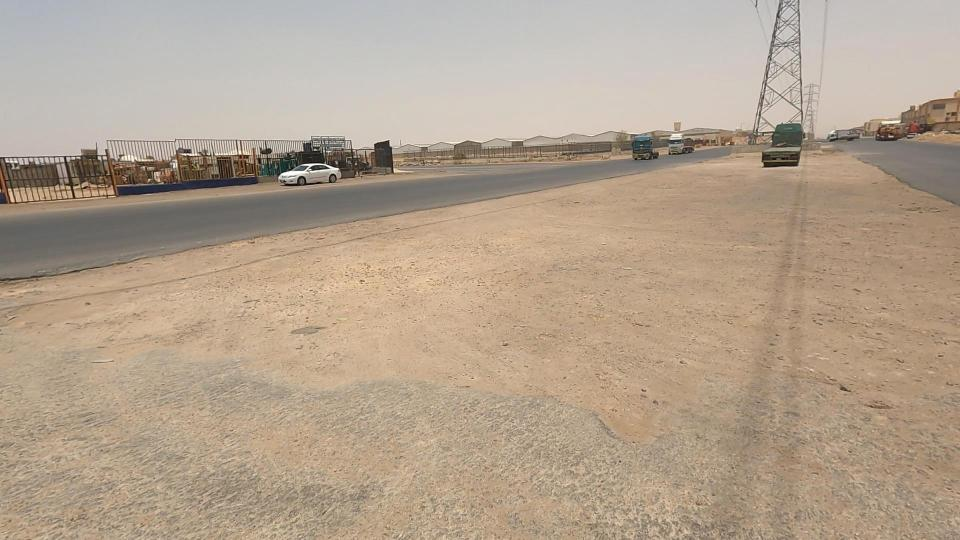CONSTRUCTION_ROAD: (29, 113, 960, 540), (532, 82, 960, 390)
